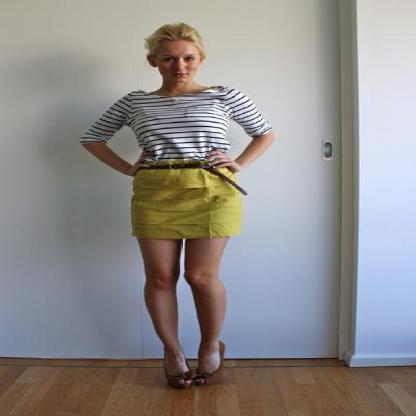shirt: (78, 90, 269, 168)
shoe: (166, 369, 224, 394)
skirt: (130, 158, 246, 240)
